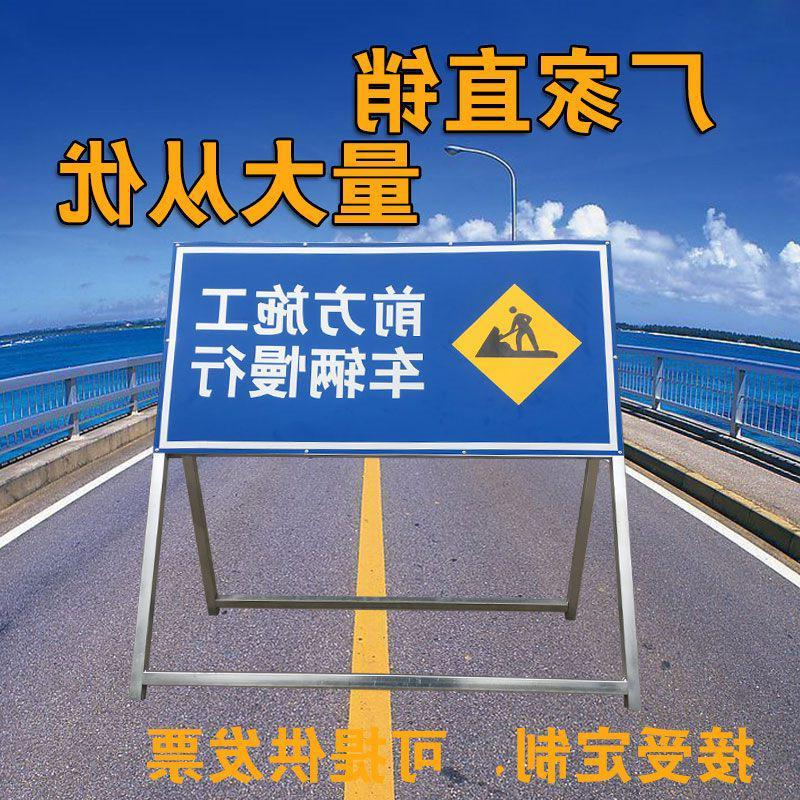sign: (153, 237, 627, 454)
